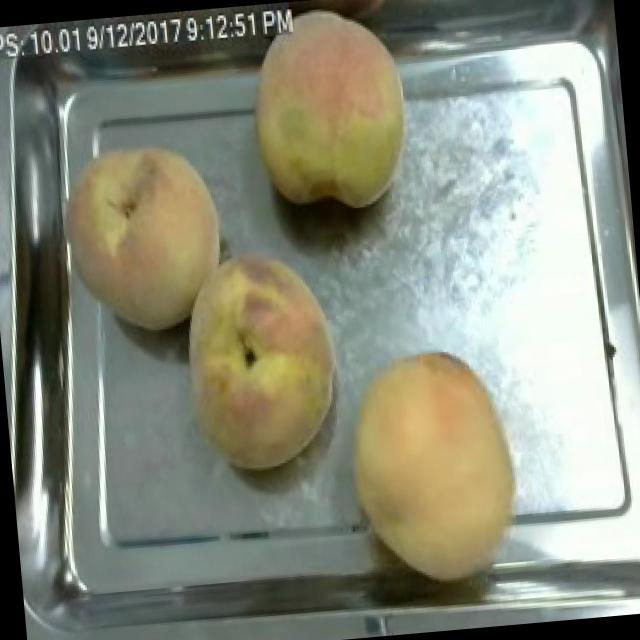Fruit: (331, 336, 536, 600), (166, 239, 354, 481), (45, 124, 238, 345), (234, 0, 424, 224)
